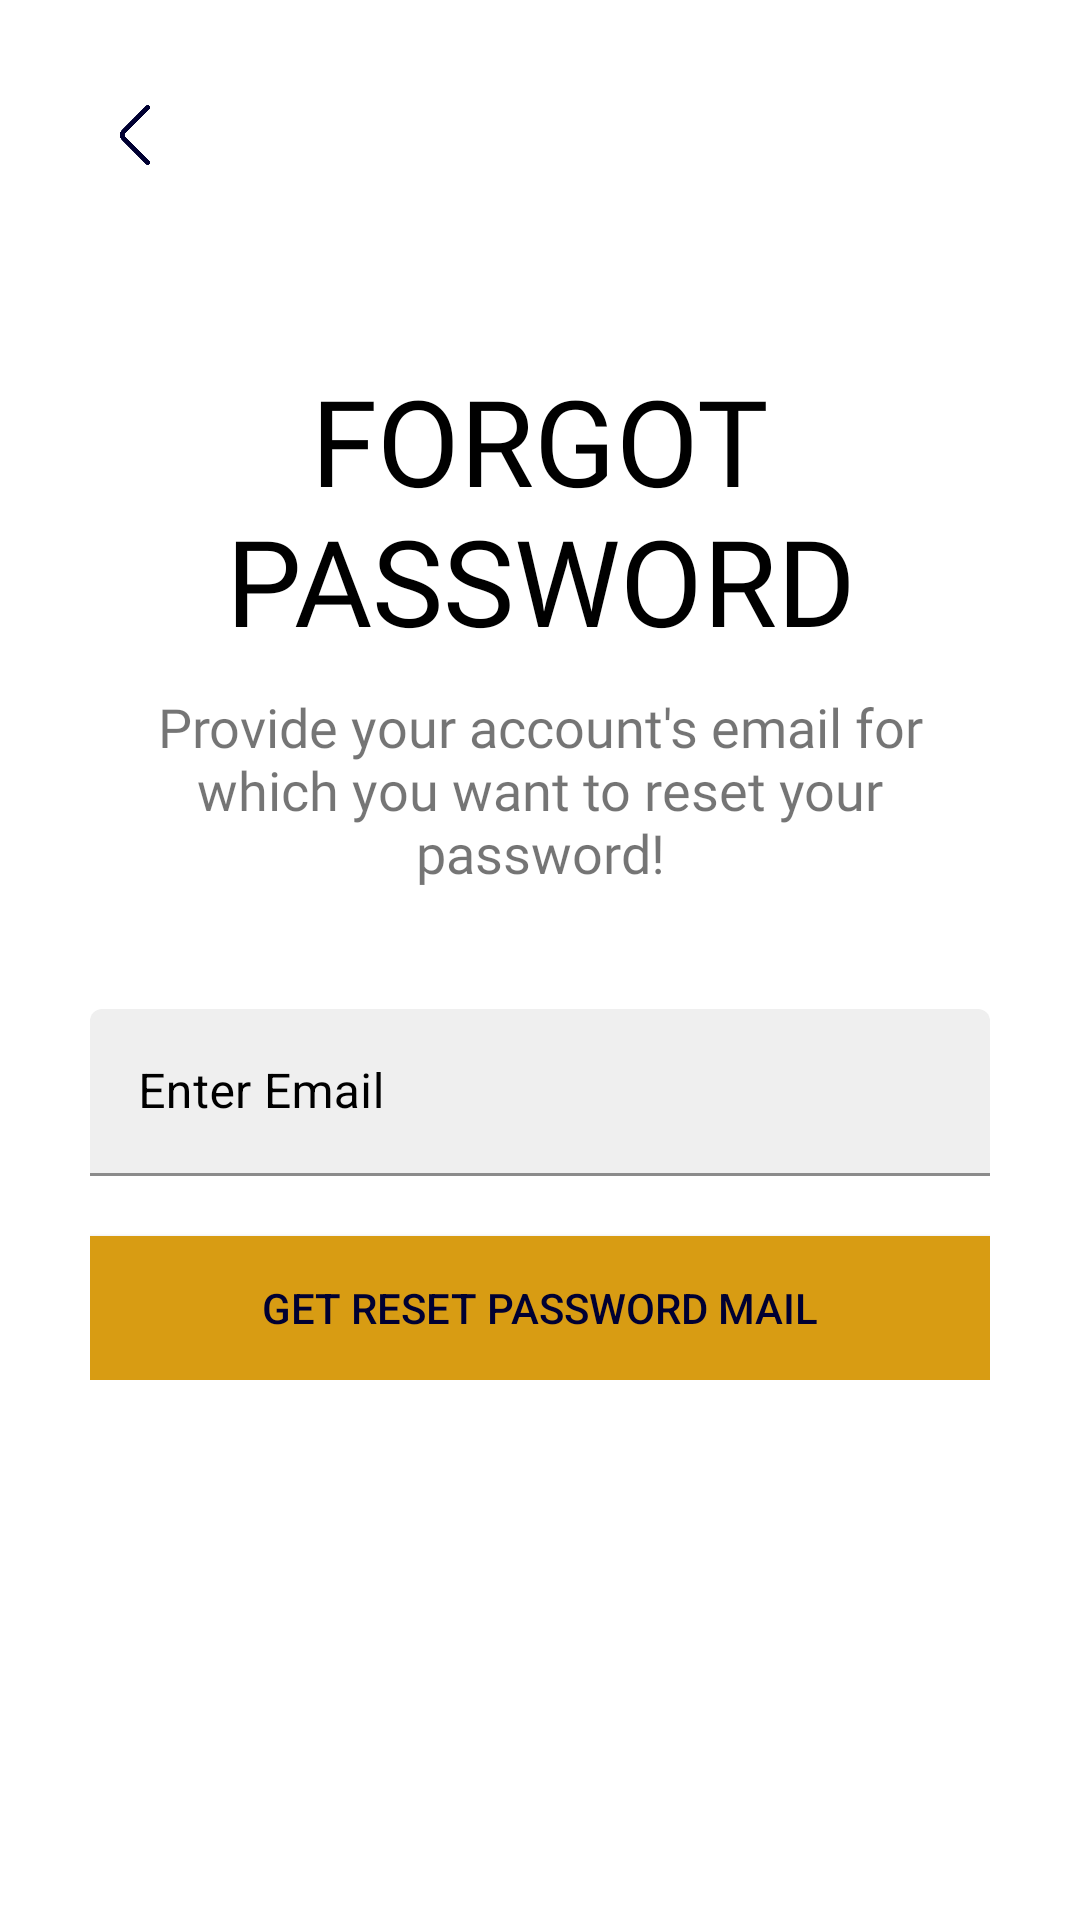

Icon click points for this 1080x1920 phone screenshot, format (x,y):
leftarrow: (135,135)
